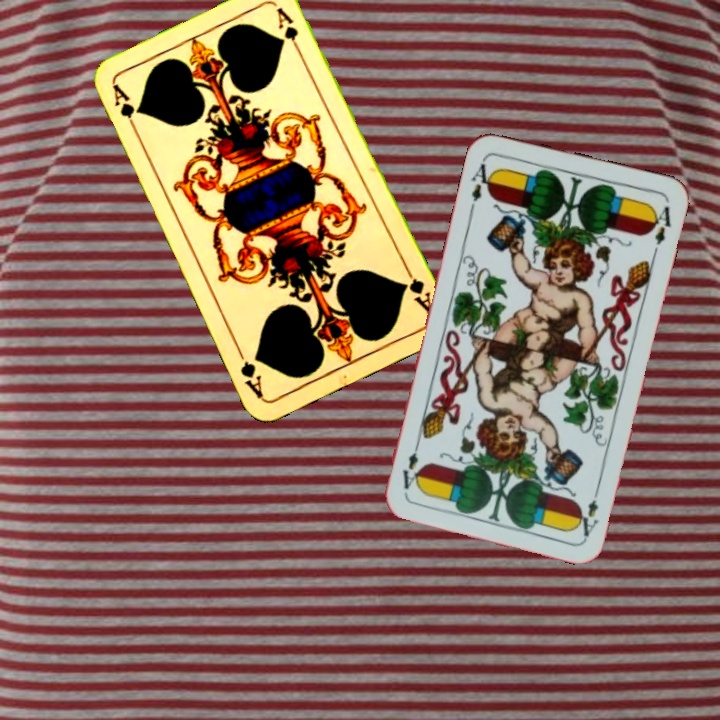EA: (573, 482, 602, 540), (467, 155, 497, 204)
GA: (398, 262, 436, 317), (108, 80, 141, 137)
